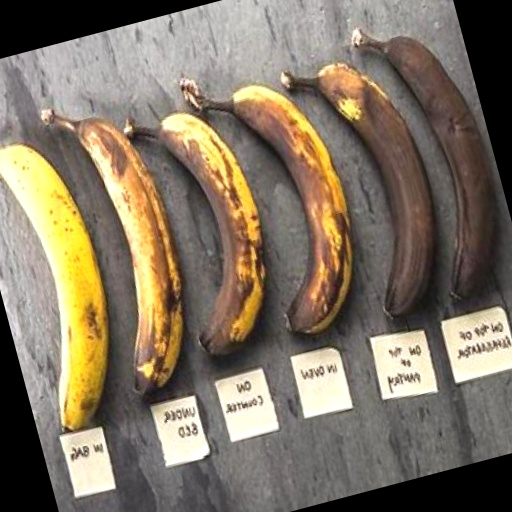fruit: (0, 123, 400, 512), (0, 119, 369, 512), (106, 86, 418, 416), (339, 85, 512, 439), (230, 31, 445, 314), (450, 56, 512, 348)
